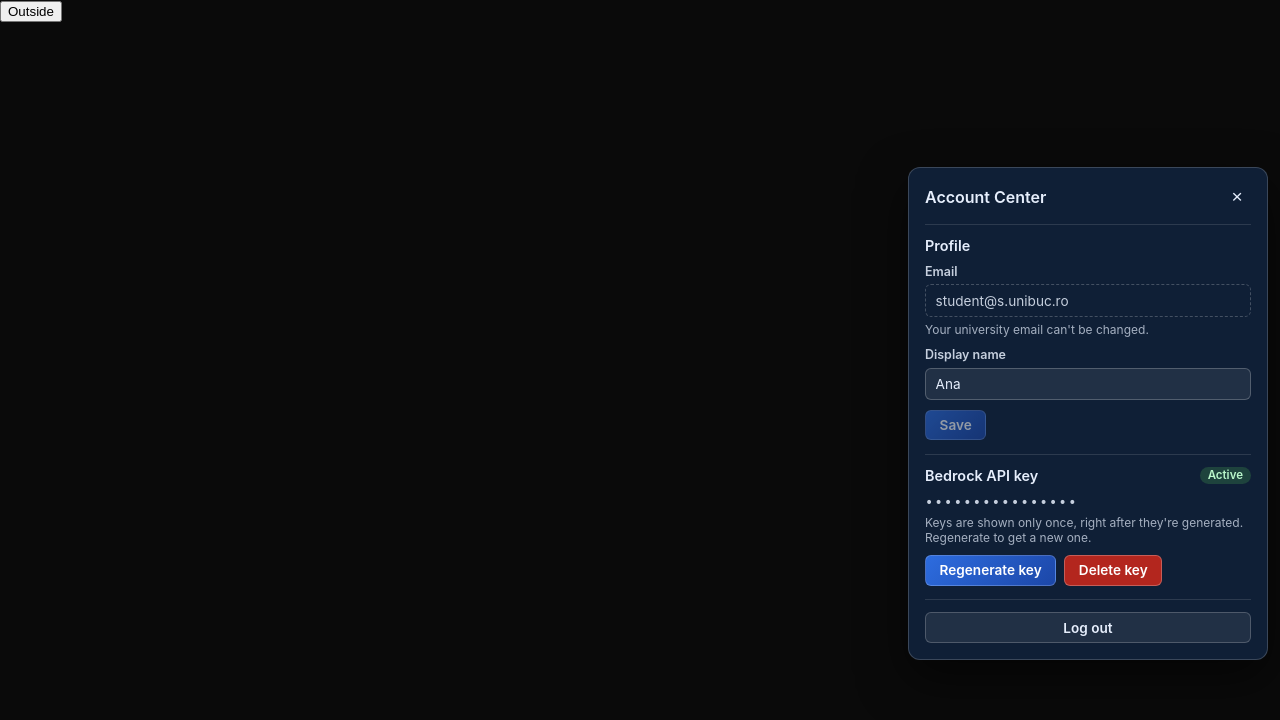
AccountCenter API key › keeps the current key and reports an error when regeneration fails
The image size is (1280, 720).
Step 1. Click the button "Regenerate key" → (991, 570), box [925,555,1056,586]
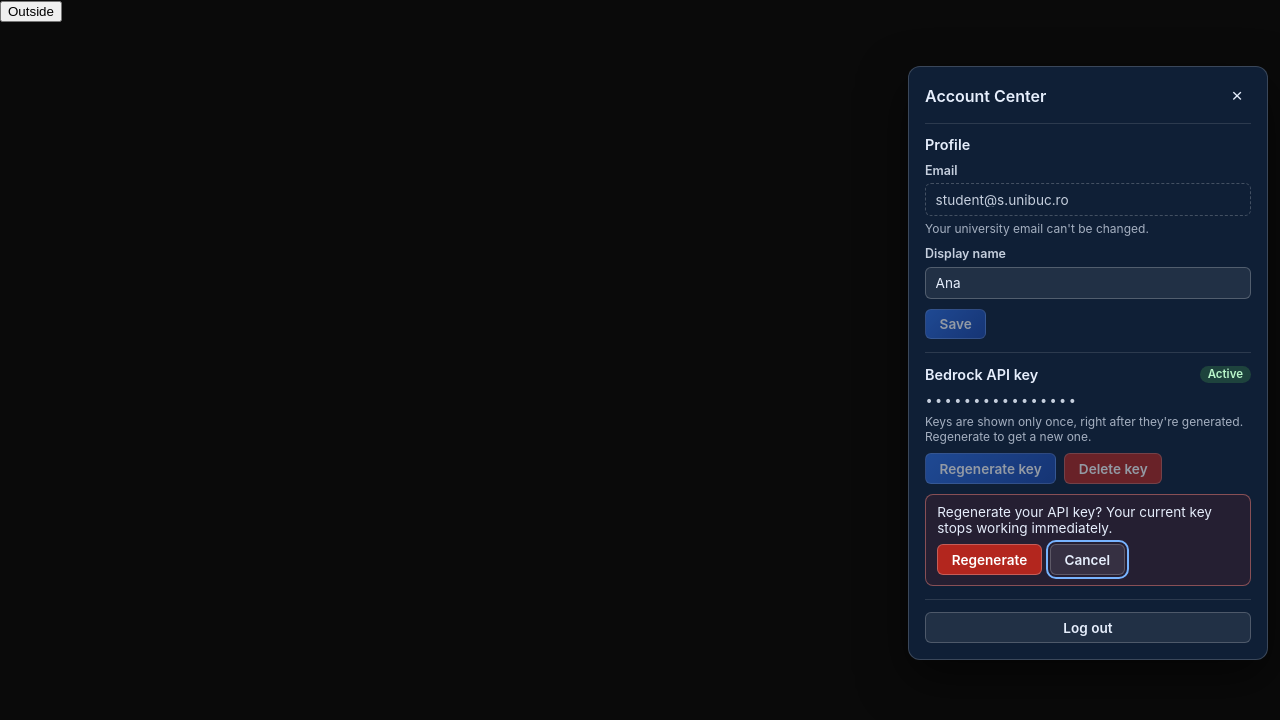
Step 2. Click the button "Regenerate" → (990, 560), box [937,544,1042,575]
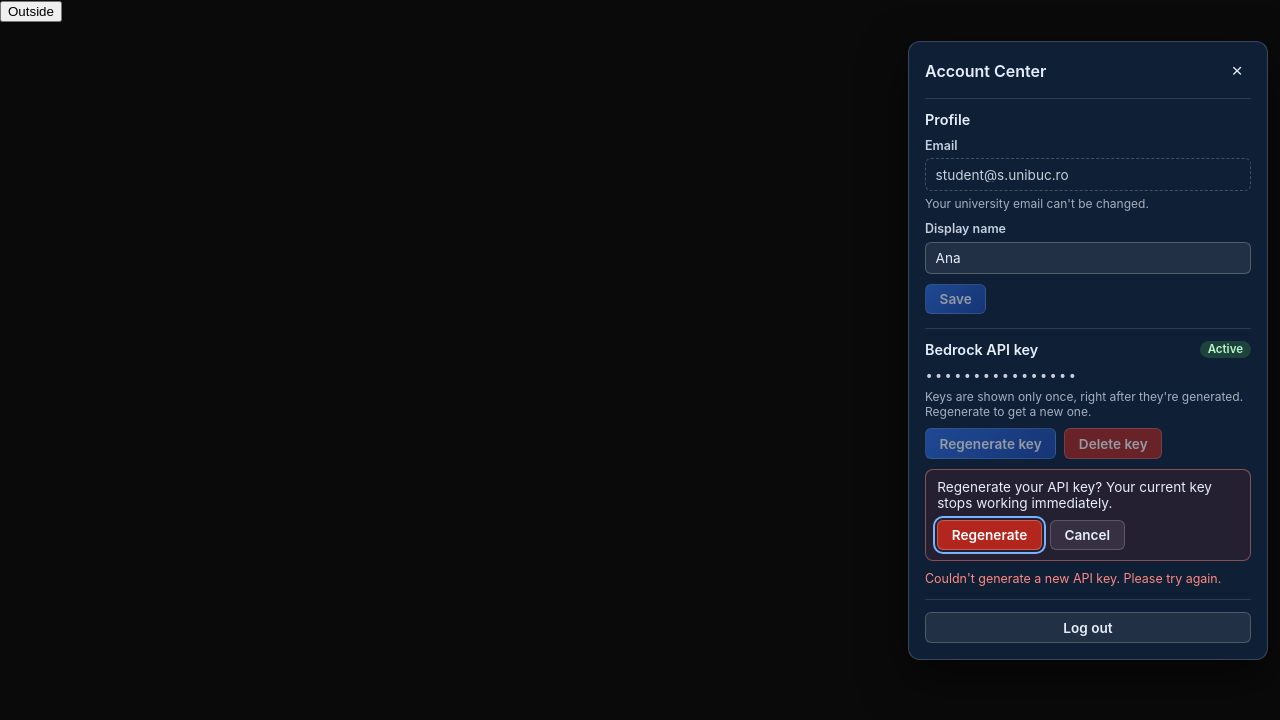
Check: the element with test id "account-center-api-key-masked" is shown, box [925,366,1172,384]
Check: the button "Regenerate" is enabled, box [937,520,1042,550]
Check: the message reads "Couldn't generate a new API key. Please try again.", box [925,571,1221,586]
